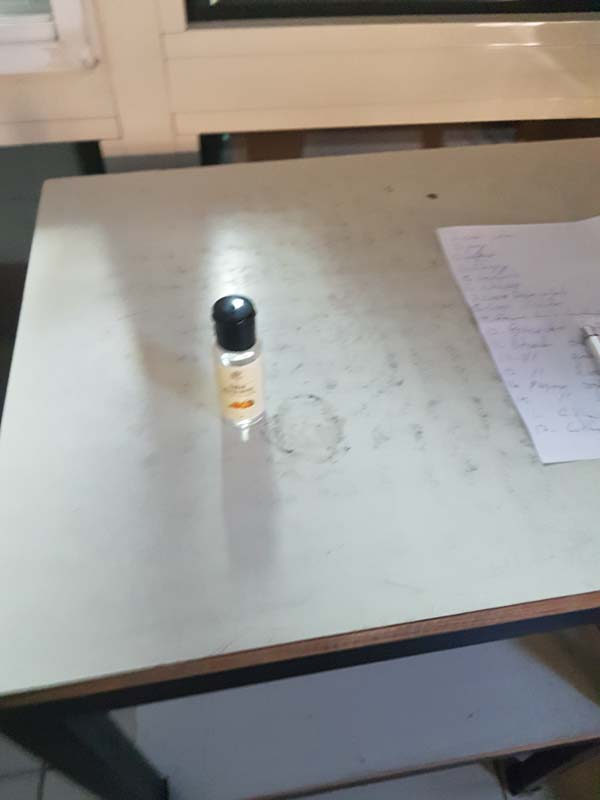redbulkolonya: (204, 290, 270, 436)
